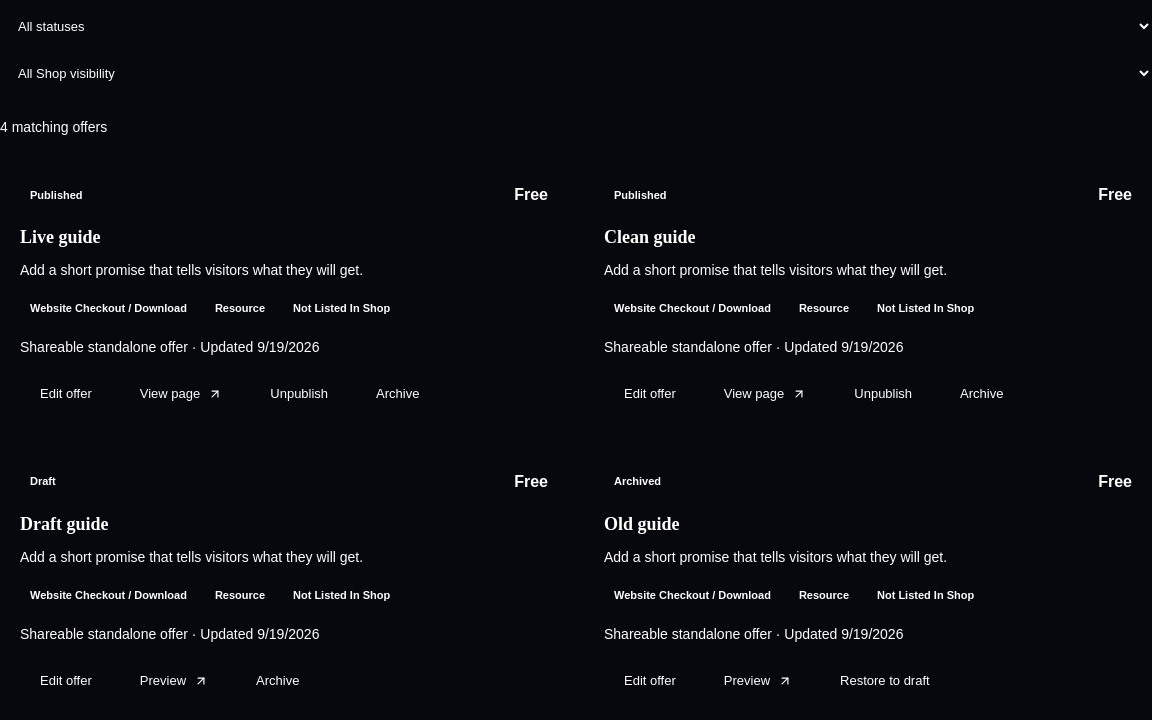
offers list › reports a concurrent change instead of overwriting it
(page scrolled)
Expected: the heading "Live guide" is shown, [20,227,100,247]
Click the button with aria-label "Archive: Live guide".
click(398, 394)  # box [356,374,440,414]
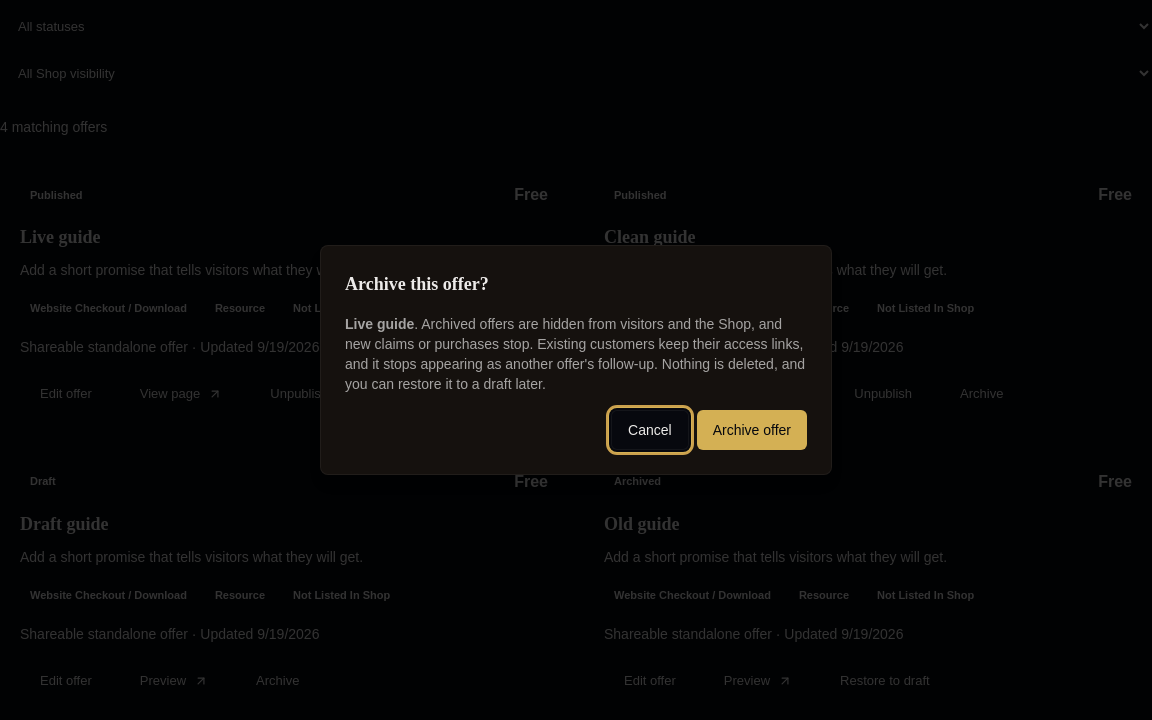
Click the button "Archive offer".
click(752, 430)  # box [697,410,807,450]
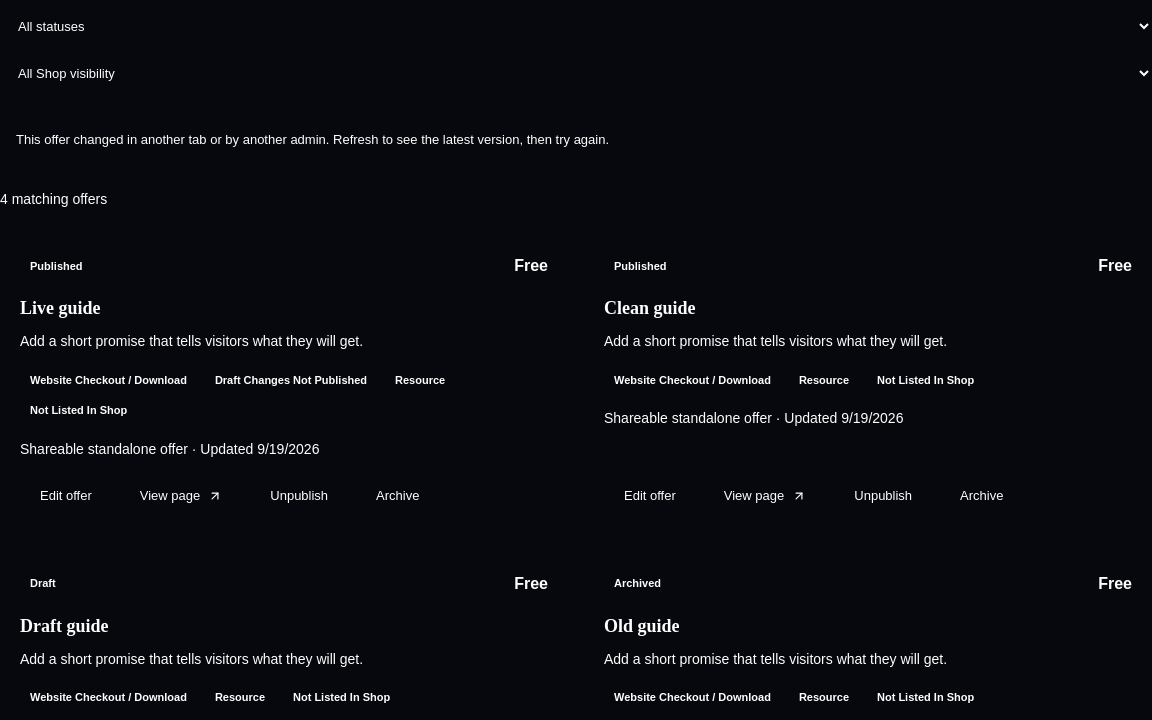
Expected: the message shows "changed in another tab", [16,132,609,148]
